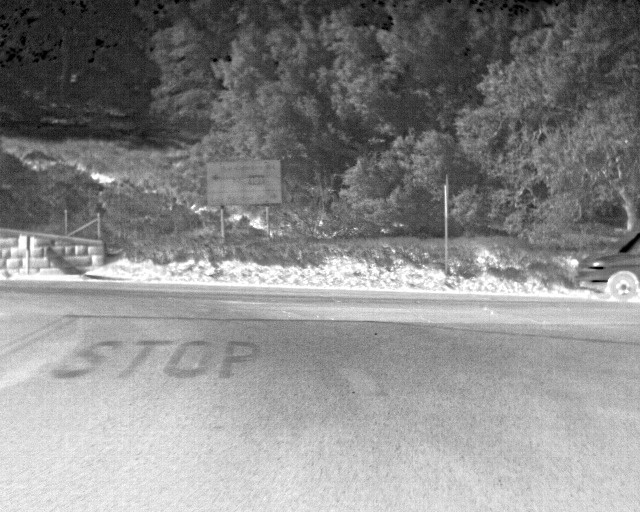vehicle: (580, 233, 640, 300)
